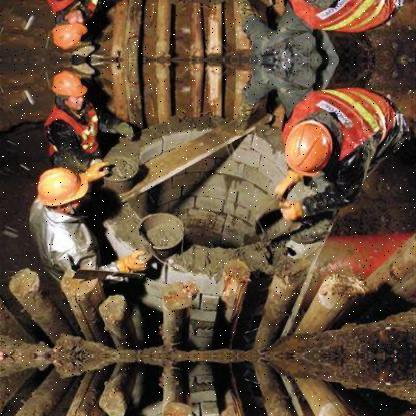helmet: (278, 114, 336, 176), (39, 164, 88, 212), (51, 69, 87, 103), (51, 13, 87, 47)
